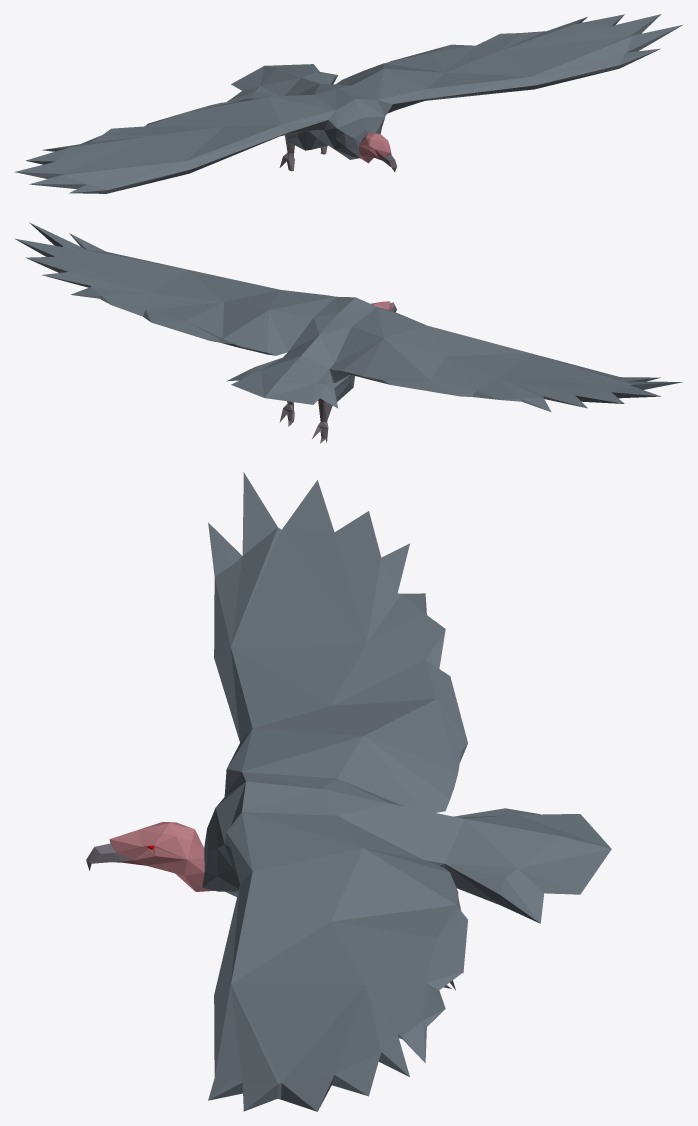
File: birds_vulture.gltf
3 renders of one model, top to bottom at view 1: azimuth 30°, elevation 25°; view 2: azimuth 150°, elevation 25°; view 3: azimuth 270°, elevation 25°, orthographic. The views are drawn at different scales.
Parts seen in each view (by area): view 1: vulture_colorMap; view 2: vulture_colorMap; view 3: vulture_colorMap.
Part boxes in pixels (box(x1,y1,x2,y2)): vulture_colorMap: box(14, 14, 683, 193); vulture_colorMap: box(14, 222, 682, 443); vulture_colorMap: box(86, 472, 611, 1111).
Bounding box in the file's own units: 317 × 48.55 × 110.
